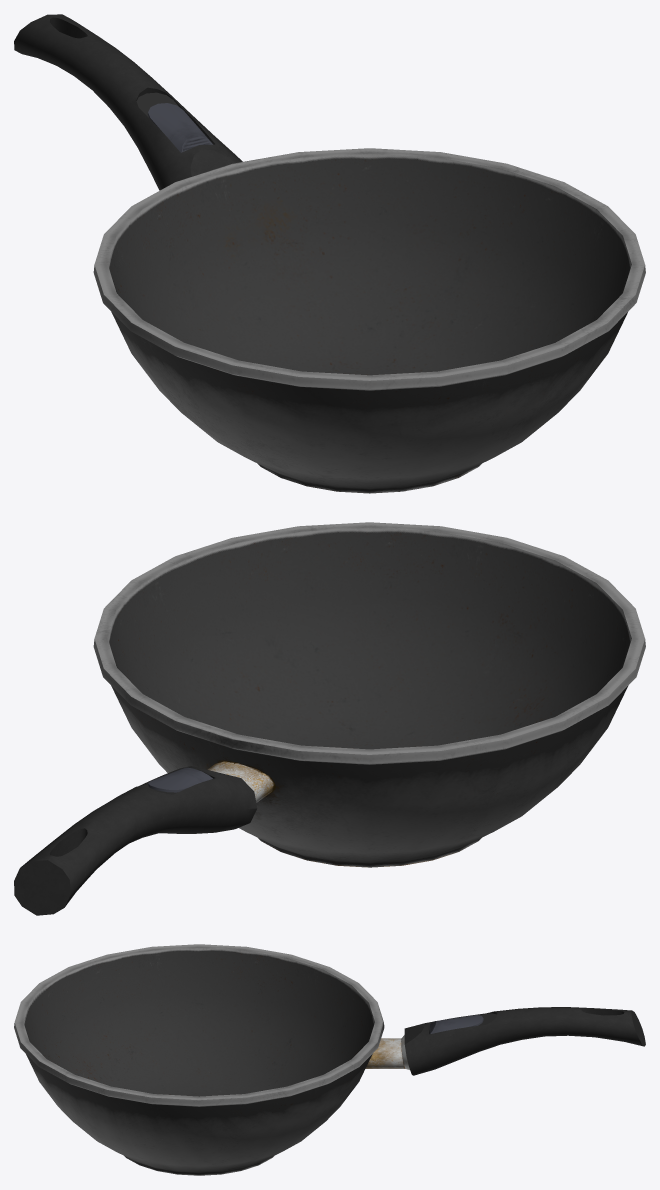
File: wok_homework10.glb
3 renders of one model, top to bottom at view 1: azimuth 30°, elevation 25°; view 2: azimuth 150°, elevation 25°; view 3: azimuth 270°, elevation 25°, orthographic. The views are drawn at different scales.
Visible parts, largest first — view 1: Wok.001, Handle.001, Button.001; view 2: Wok.001, Handle.001, Steel.001, Button.001; view 3: Wok.001, Handle.001, Steel.001, Button.001.
Part boxes in pixels (box(x1,y1,x2,y2)): Wok.001: box(93, 148, 645, 493); Handle.001: box(14, 14, 242, 190); Button.001: box(147, 103, 212, 152); Wok.001: box(93, 522, 645, 867); Handle.001: box(14, 766, 257, 915); Steel.001: box(207, 761, 274, 802); Button.001: box(147, 767, 212, 792); Wok.001: box(14, 944, 384, 1175); Handle.001: box(404, 1007, 645, 1075); Steel.001: box(365, 1035, 409, 1069); Button.001: box(429, 1015, 483, 1033).
Size of the model in its own units: 307 by 120 by 524.
Materials: 1 (1 with a texture image).
